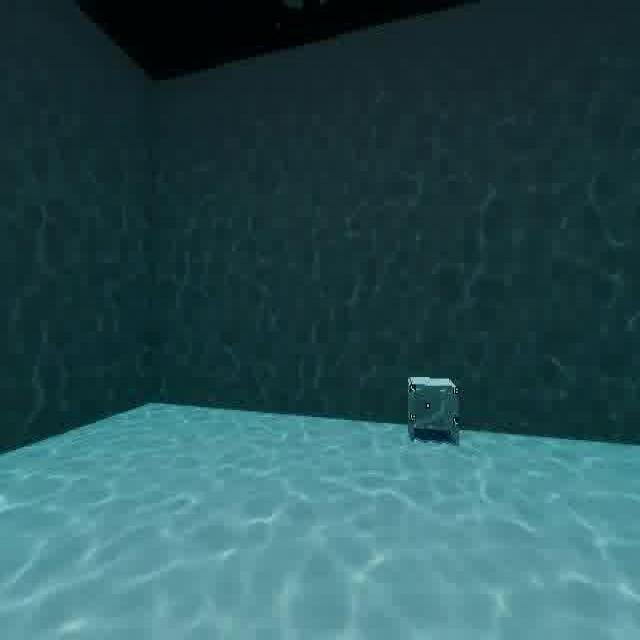Docking Station: (403, 364, 466, 452)
